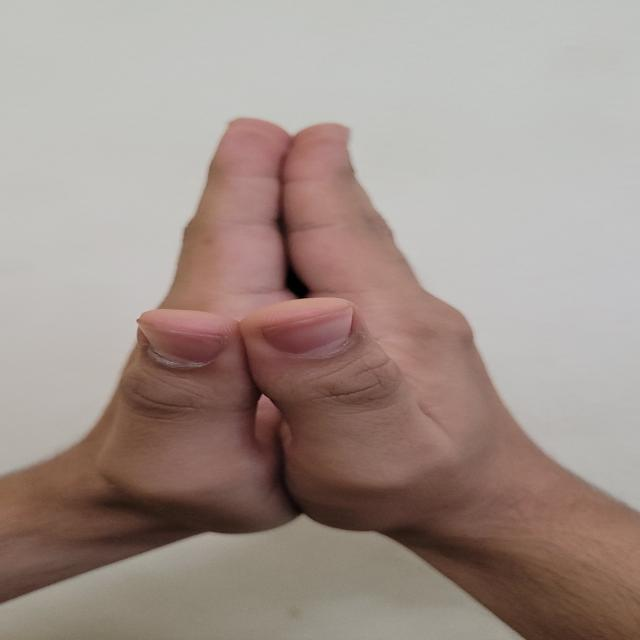Thank You: (100, 89, 554, 568)
